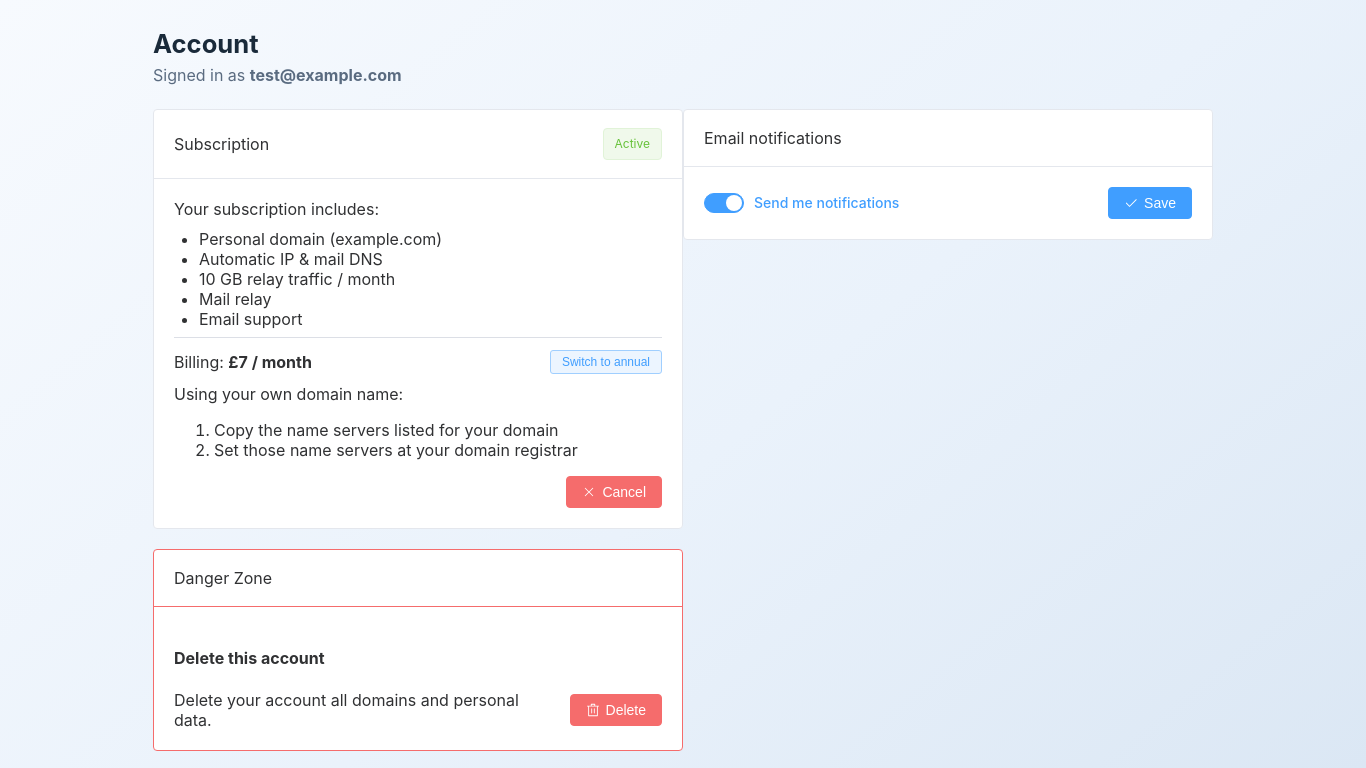
Test case: Switch to annual shows the provider message on failure
The width and height of the screenshot is (1366, 768).
Click the button with id "switch_annual". click: x=606, y=362
box: [550,350,662,374]
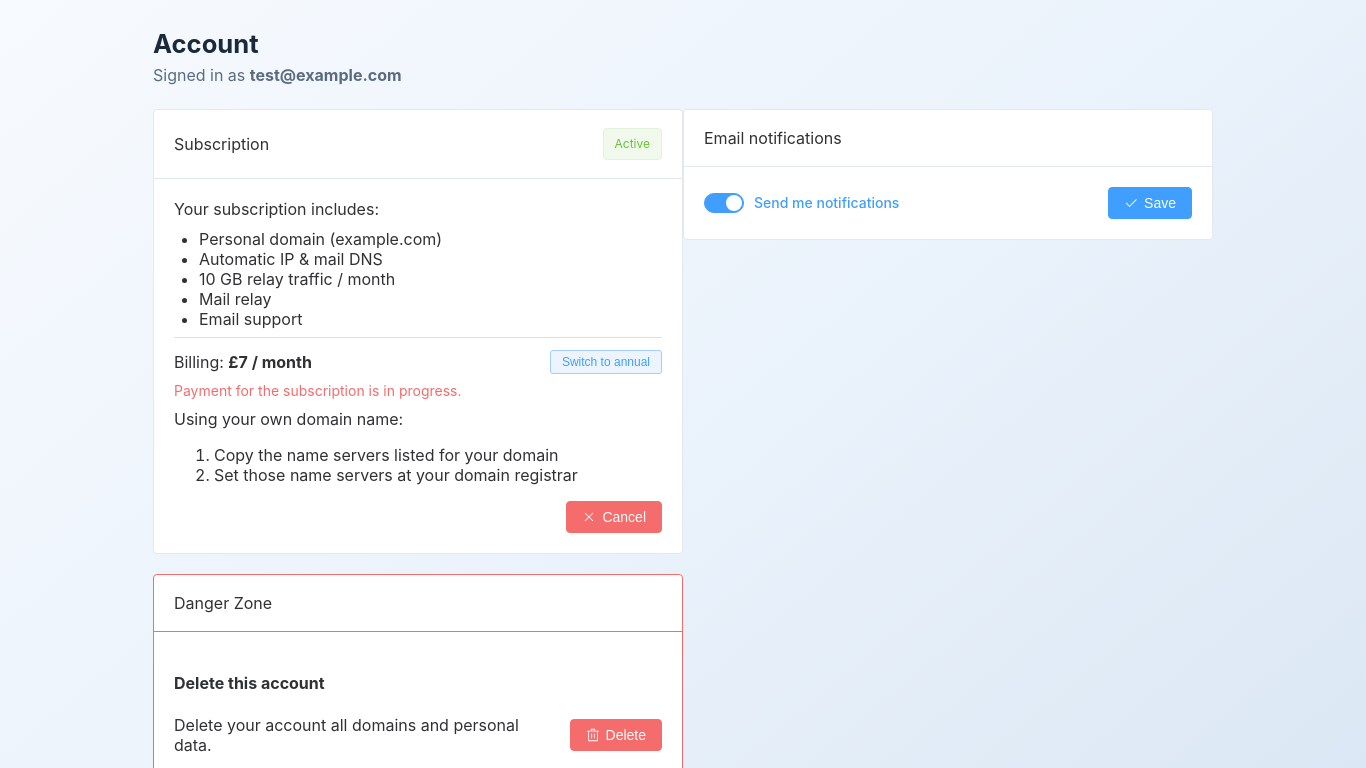
Expected: the text with test id "switch-error" reads "Payment for the subscription is in progress.", [174,382,462,399]
